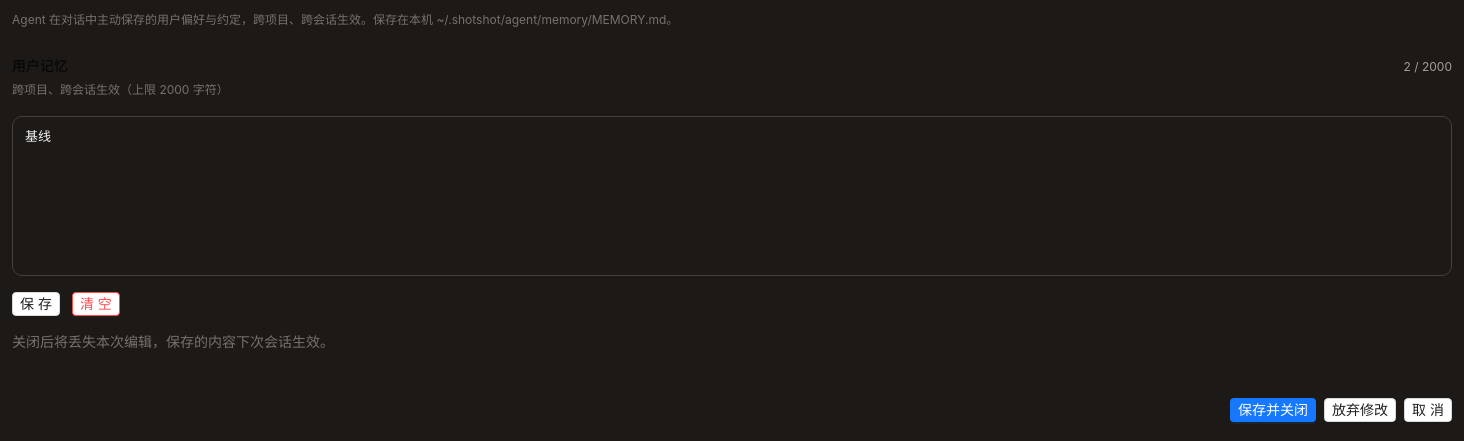
it: MemorySettingsSection › confirmLeave 在脏状态下弹三键确认：放弃修改恢复基线
This screenshot has width=1464, height=441.
Replace the text in the text box with "改掉". click: (732, 196)
box: [12, 116, 1452, 276]
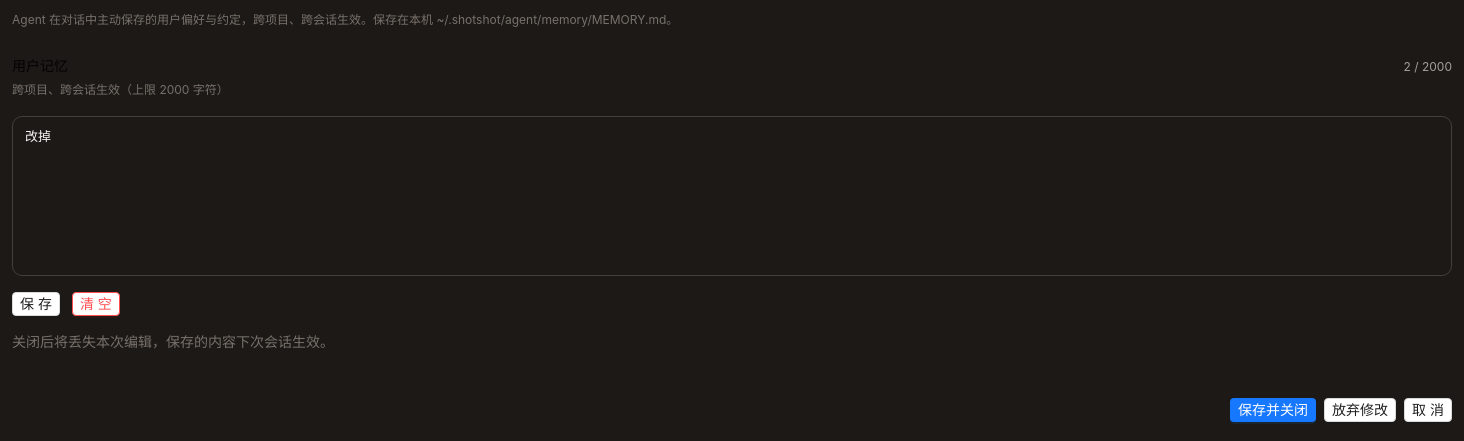
confirmLeave 内部会 setState，需要在 act 内触发以刷新受控 Modal
Click the button "放弃修改". click: (1360, 410)
box: [1324, 398, 1396, 422]
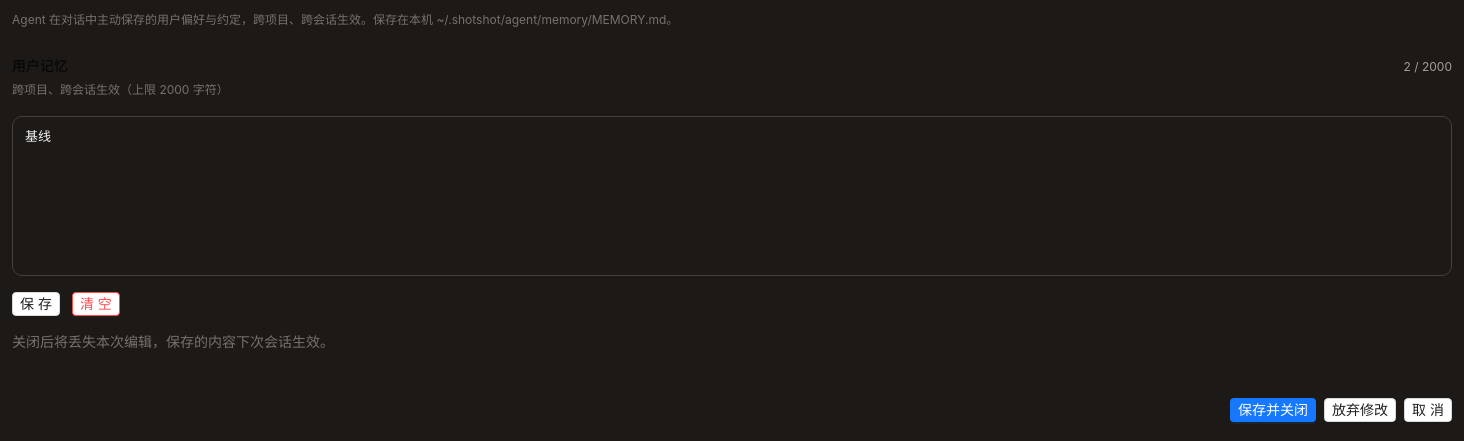
Now the text box showing "基线" is shown, box [12, 116, 1452, 276]
